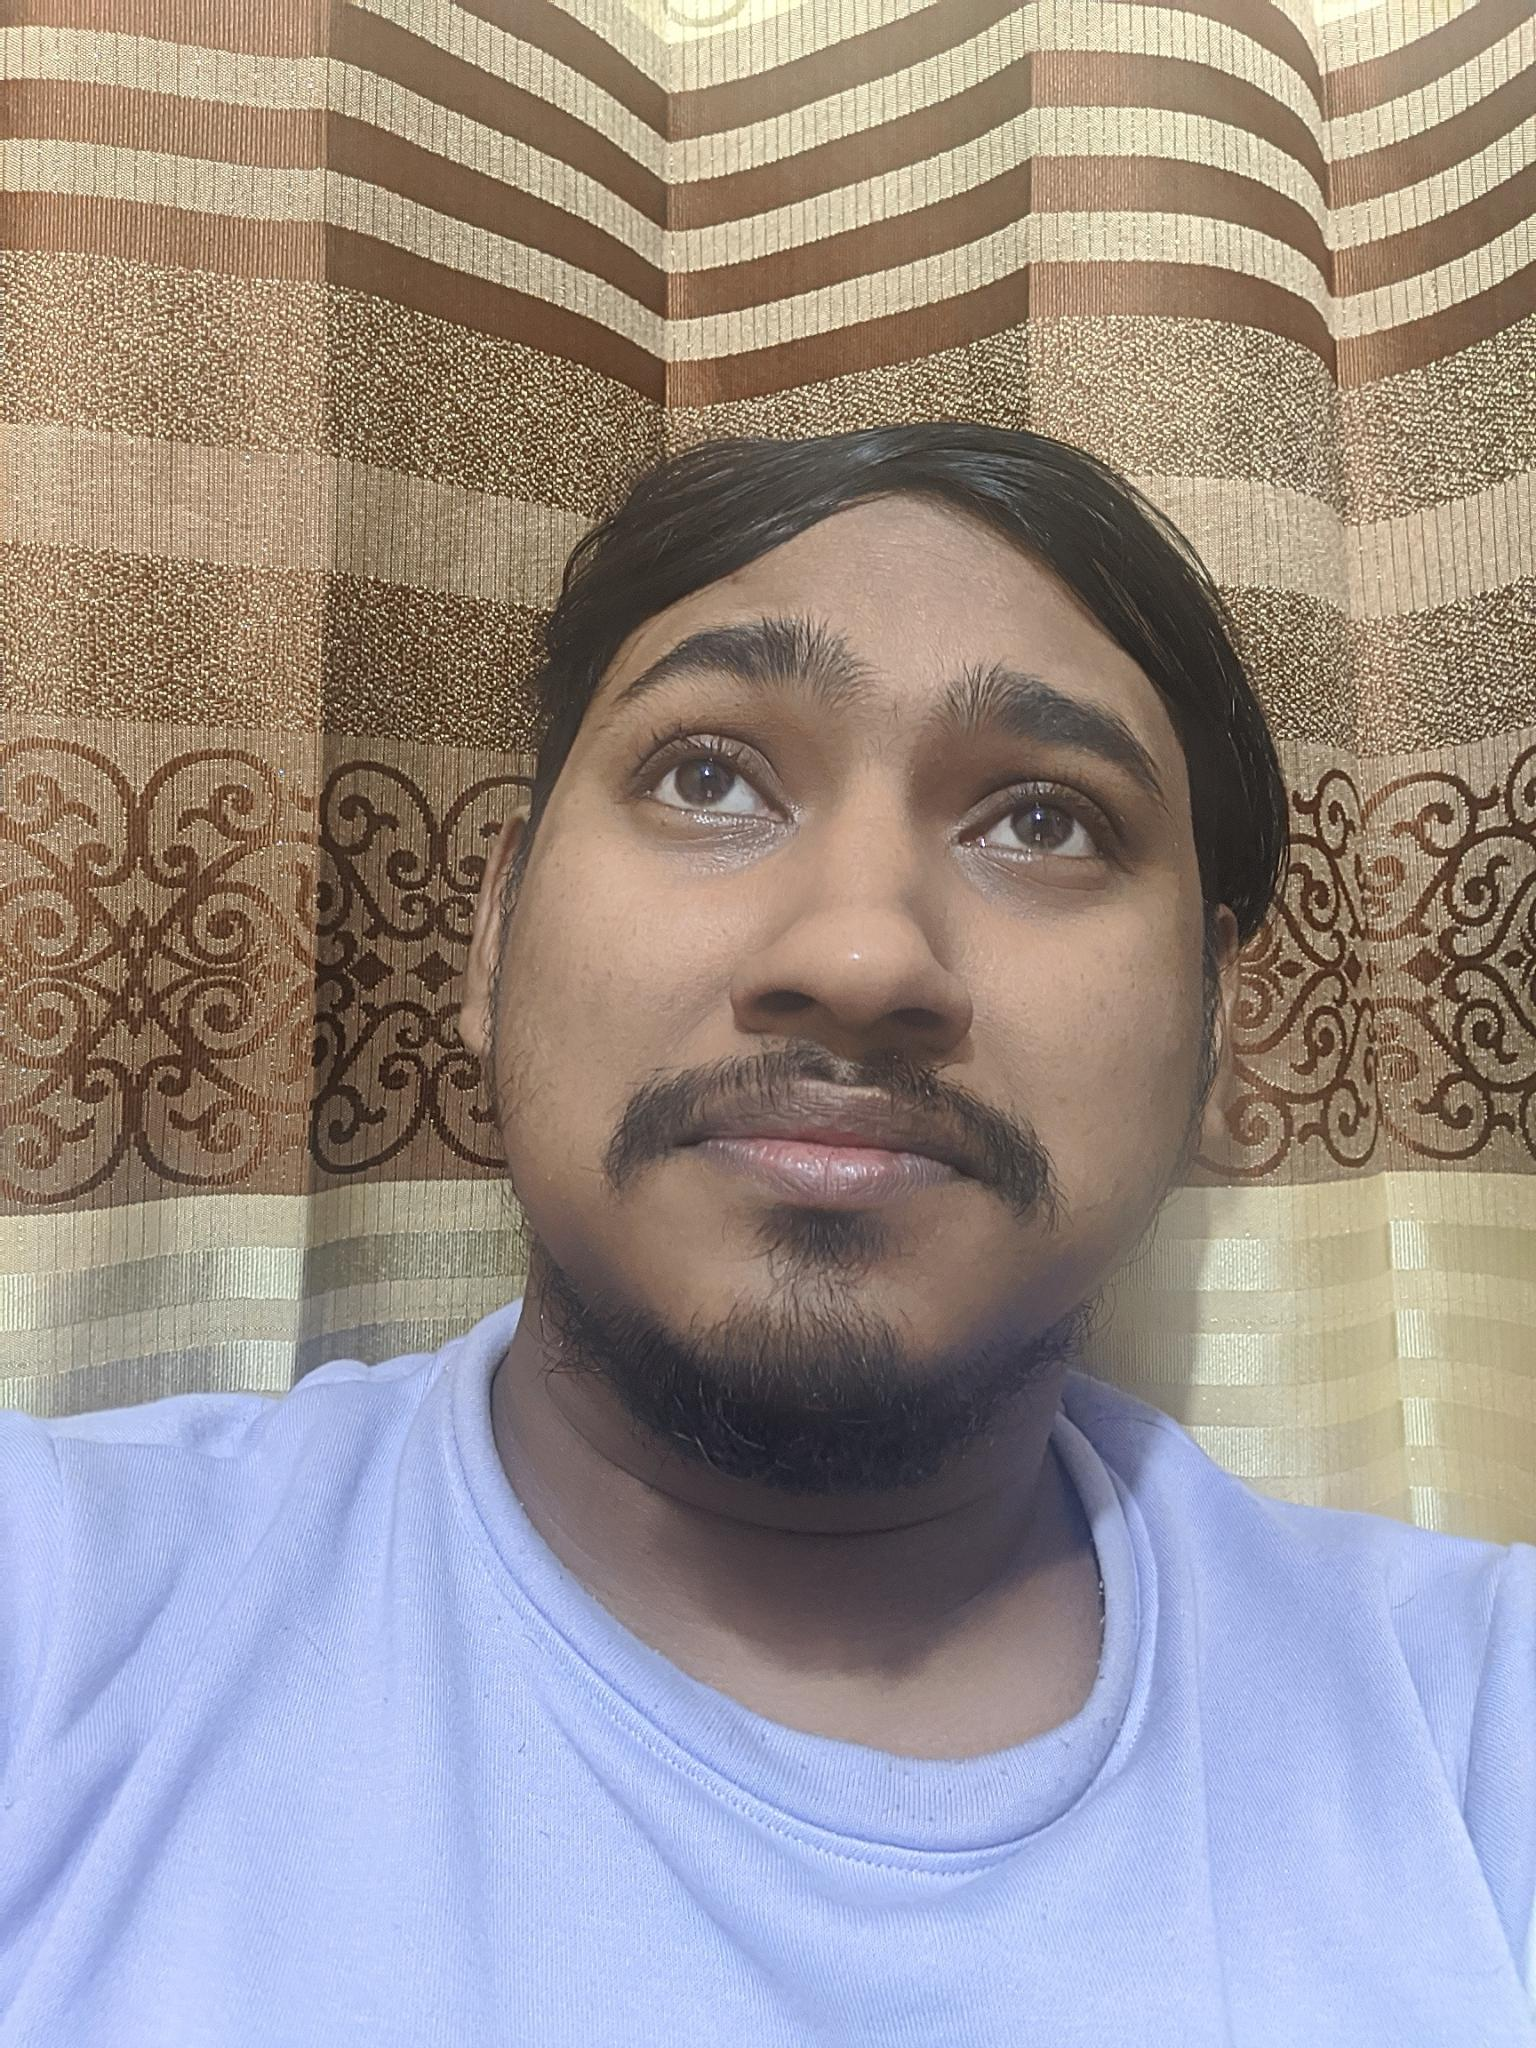Sad: (494, 574, 1191, 1453)
